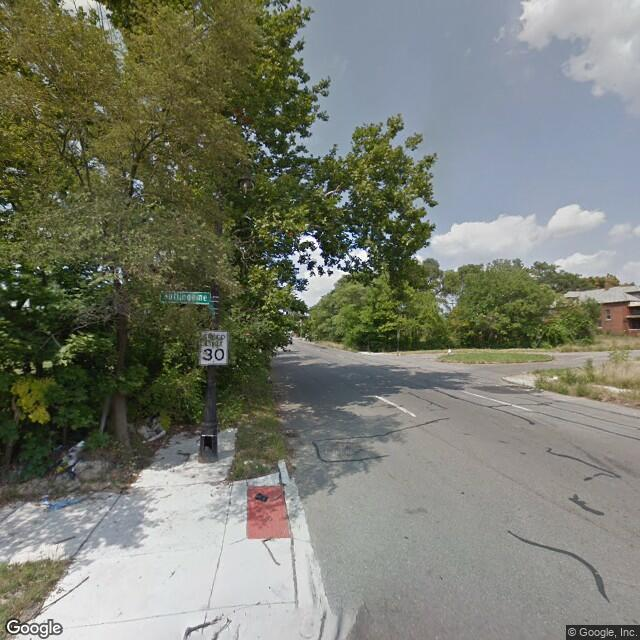litter: (63, 444, 86, 467), (139, 423, 168, 440), (243, 456, 258, 468), (253, 493, 270, 503)
